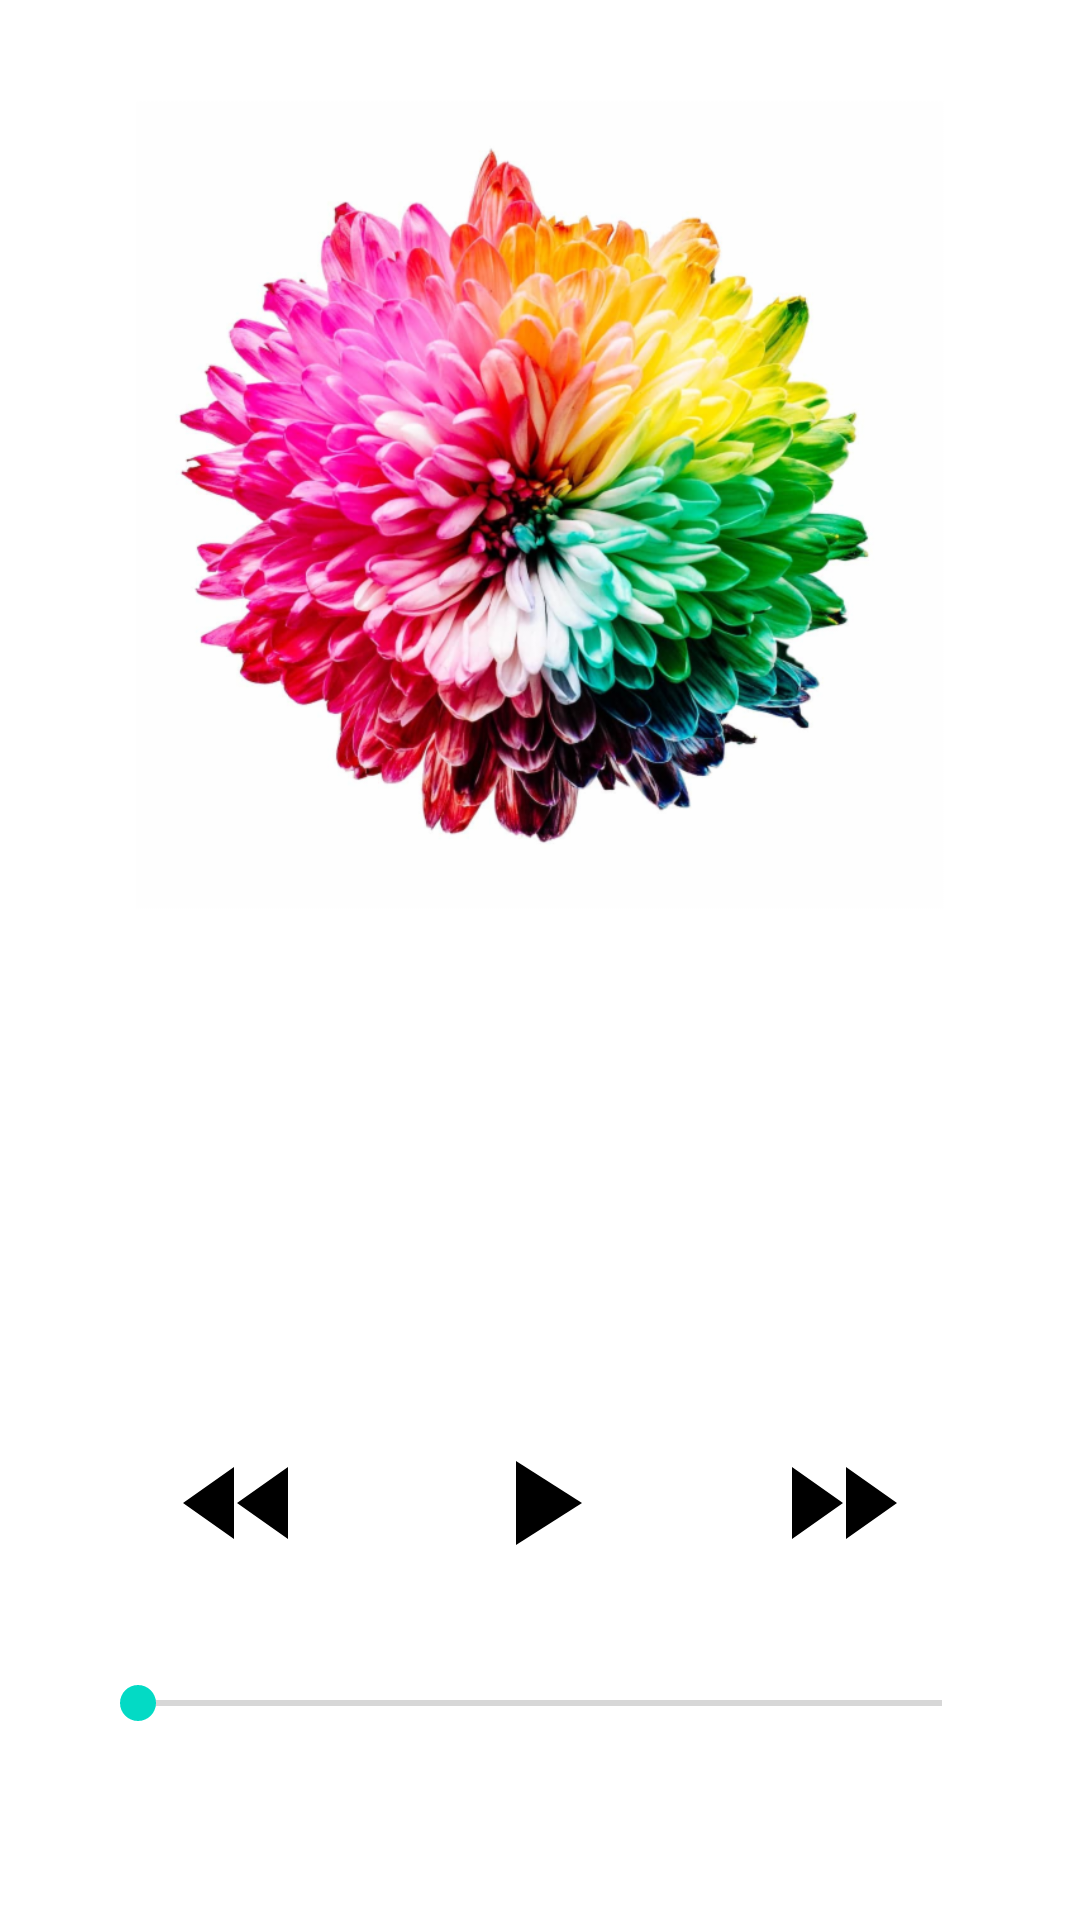

Icons on this 1080 x 1920 Android screen, each with the point to tap as (x,y):
Forward Arrow Image: (844,1503)
Play Arrow Image: (549,1503)
Rewind Arrow Image: (235,1503)
